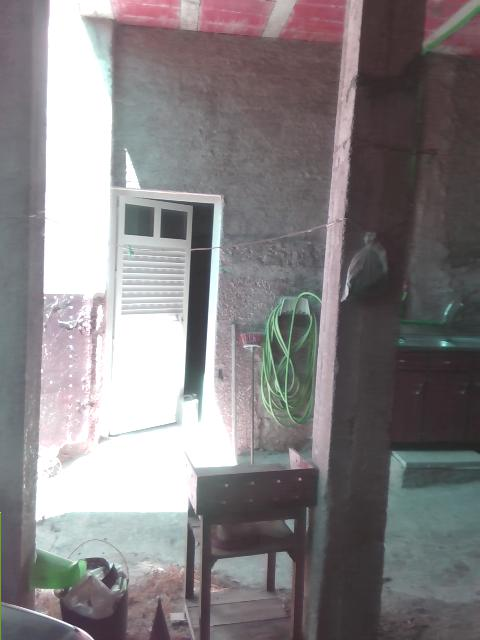semi_door: (99, 186, 224, 447)
